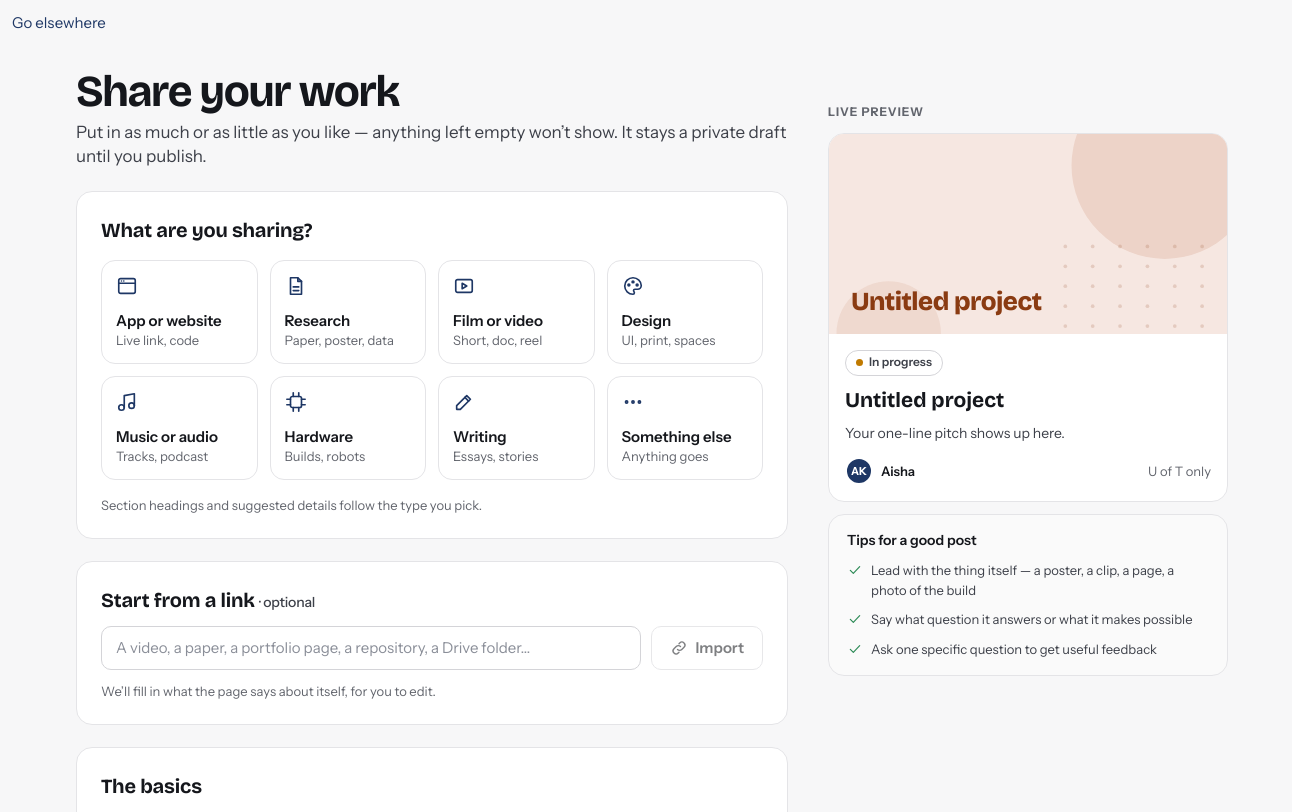
Test: leaving the editor › goes straight away with nothing changed
Expected: the heading "What are you sharing?" is shown, [101,218,312,242]
Click the link "Go elsewhere" at (59, 22), box [12,13,106,32]
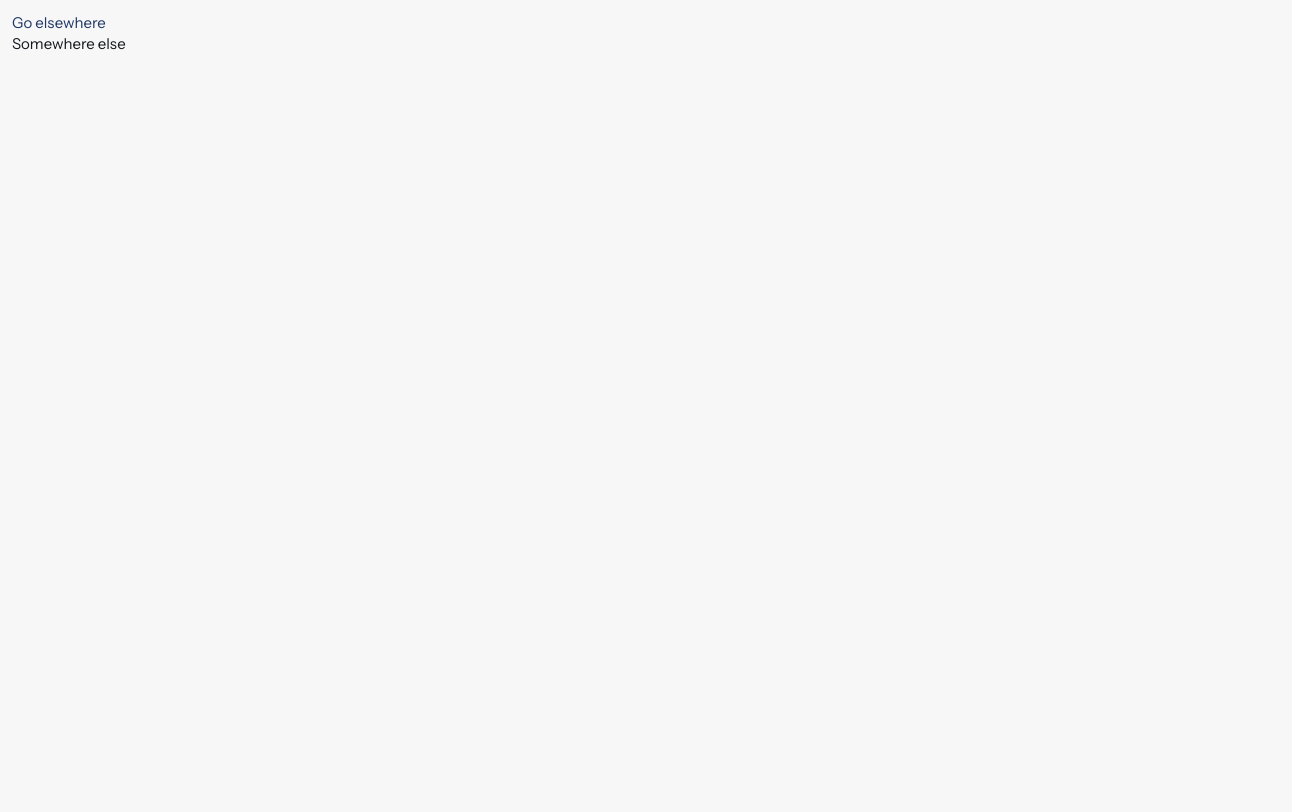
Expected: the text "Somewhere else" is shown, [12,34,126,53]
